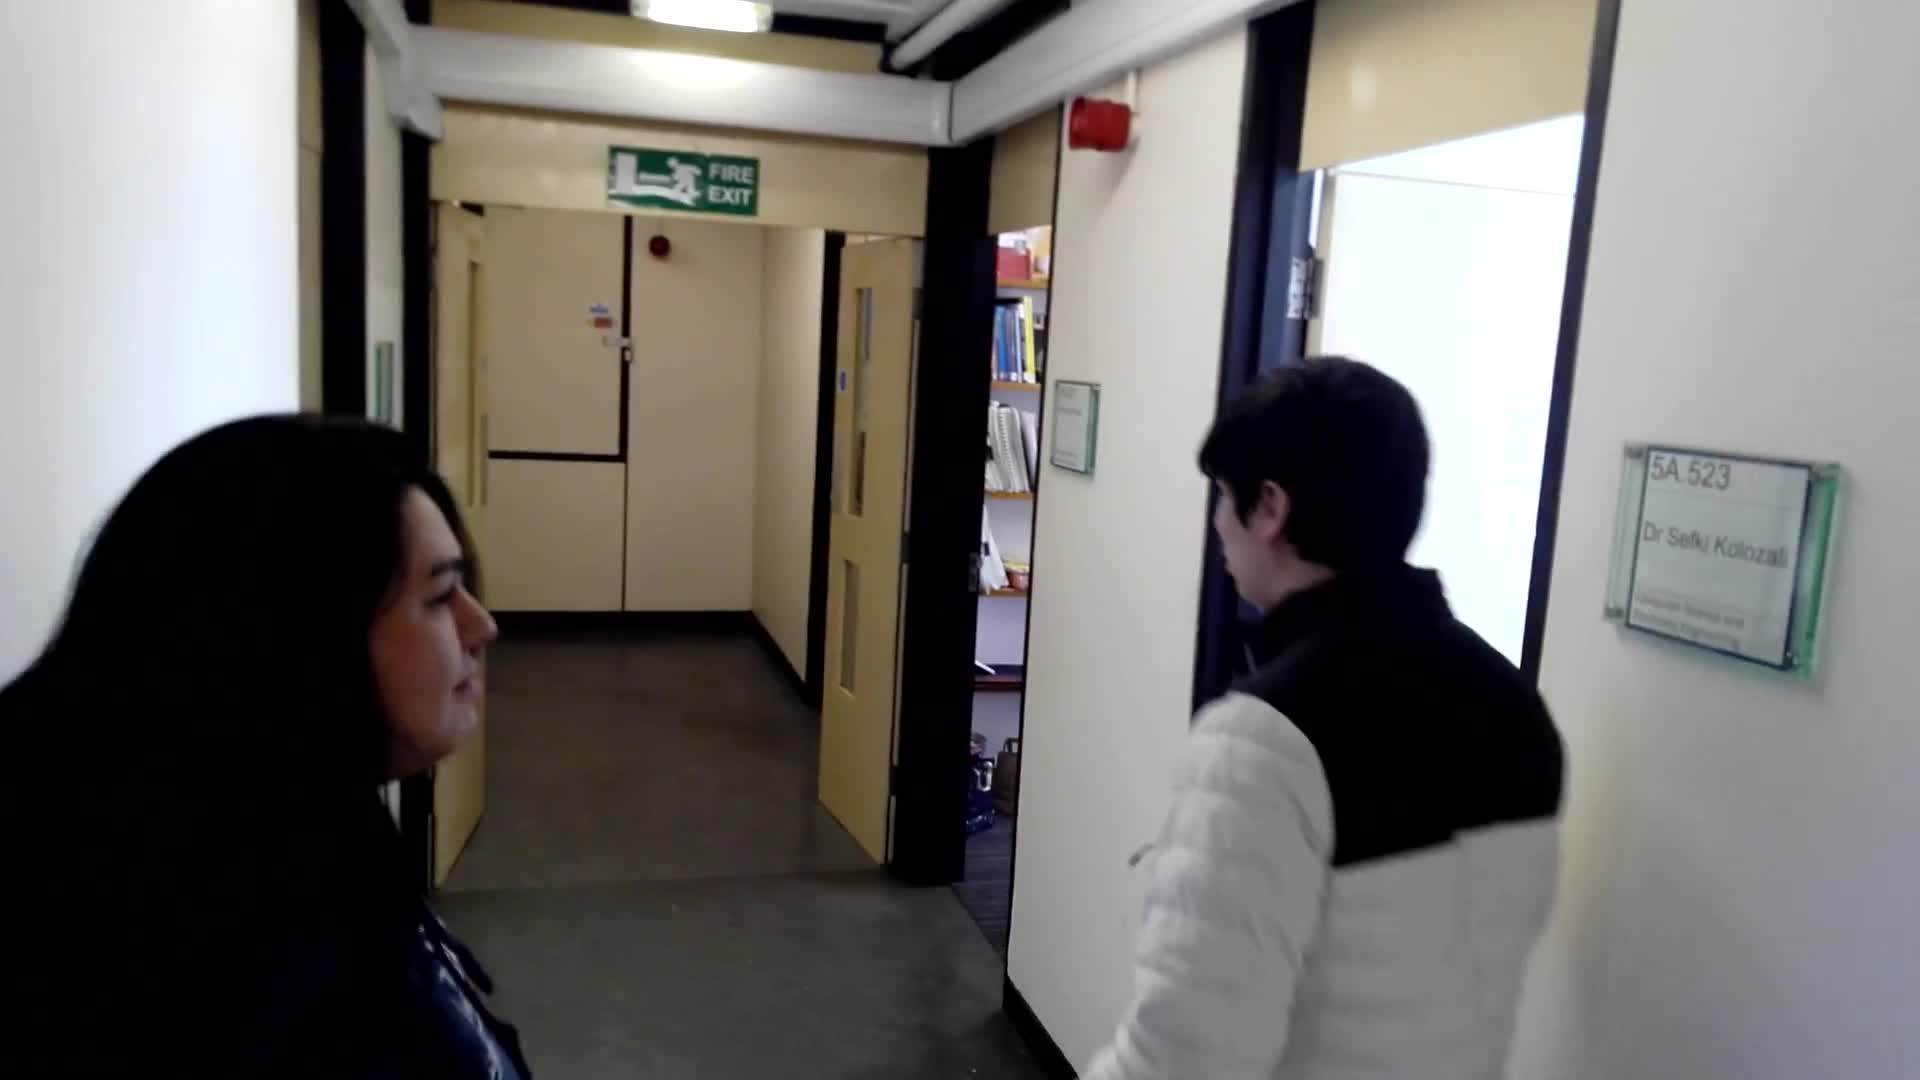Person: (1117, 355, 1588, 1080), (64, 409, 550, 1080)
